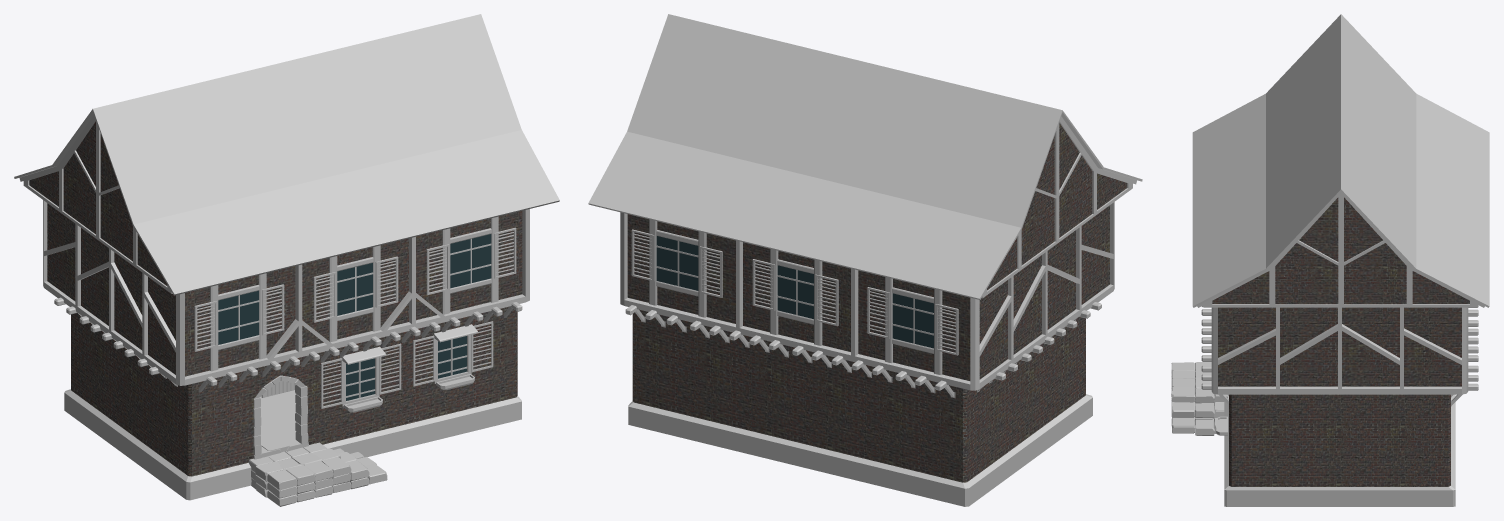
Rendered from Houses02-22et.fbx.
3 views of the same model, side by side, from view 1: azimuth 30°, elevation 25°; view 2: azimuth 150°, elevation 25°; view 3: azimuth 270°, elevation 25° (orthographic). The views are drawn at different scales.
Parts seen in each view (by area): view 1: H2Rooftop, H2S1, H2S2, H2S2Window, H2S2Wood, H2S1Bottom, h2S1Window, House2RoofTkrp, H2SStais, H2RoofWood, H2S1Enter, Cube.466; view 2: H2Rooftop, H2S1, H2S2, H2S2Window, H2S2Wood, H2S1Bottom, House2RoofTkrp, H2RoofWood; view 3: H2Rooftop, H2S1, H2S2, House2RoofTkrp, H2S2Wood, H2S1Bottom, H2RoofWood, H2SStais.
Boxes of the visible parts, bbox=[...] form: H2Rooftop: bbox=[14, 14, 559, 295]; H2S1: bbox=[71, 306, 517, 476]; H2S2: bbox=[47, 203, 522, 376]; H2S2Window: bbox=[194, 216, 516, 371]; H2S2Wood: bbox=[43, 200, 529, 392]; H2S1Bottom: bbox=[64, 389, 521, 500]; h2S1Window: bbox=[321, 321, 493, 412]; House2RoofTkrp: bbox=[29, 121, 167, 285]; H2SStais: bbox=[248, 442, 387, 506]; H2RoofWood: bbox=[19, 111, 172, 293]; H2S1Enter: bbox=[253, 375, 308, 459]; Cube.466: bbox=[260, 390, 296, 442]; H2Rooftop: bbox=[588, 14, 1142, 299]; H2S1: bbox=[632, 309, 1085, 482]; H2S2: bbox=[627, 205, 1109, 380]; H2S2Window: bbox=[631, 219, 958, 374]; H2S2Wood: bbox=[620, 202, 1114, 398]; H2S1Bottom: bbox=[628, 394, 1092, 506]; House2RoofTkrp: bbox=[987, 123, 1126, 290]; H2RoofWood: bbox=[981, 112, 1140, 298]; H2Rooftop: bbox=[1192, 14, 1489, 307]; H2S1: bbox=[1229, 394, 1450, 486]; H2S2: bbox=[1218, 307, 1461, 386]; House2RoofTkrp: bbox=[1212, 197, 1469, 304]; H2S2Wood: bbox=[1201, 305, 1478, 406]; H2S1Bottom: bbox=[1224, 394, 1455, 506]; H2RoofWood: bbox=[1197, 191, 1484, 307]; H2SStais: bbox=[1171, 362, 1227, 435].
Size of the model in its own units: 1254 by 1099 by 962.
